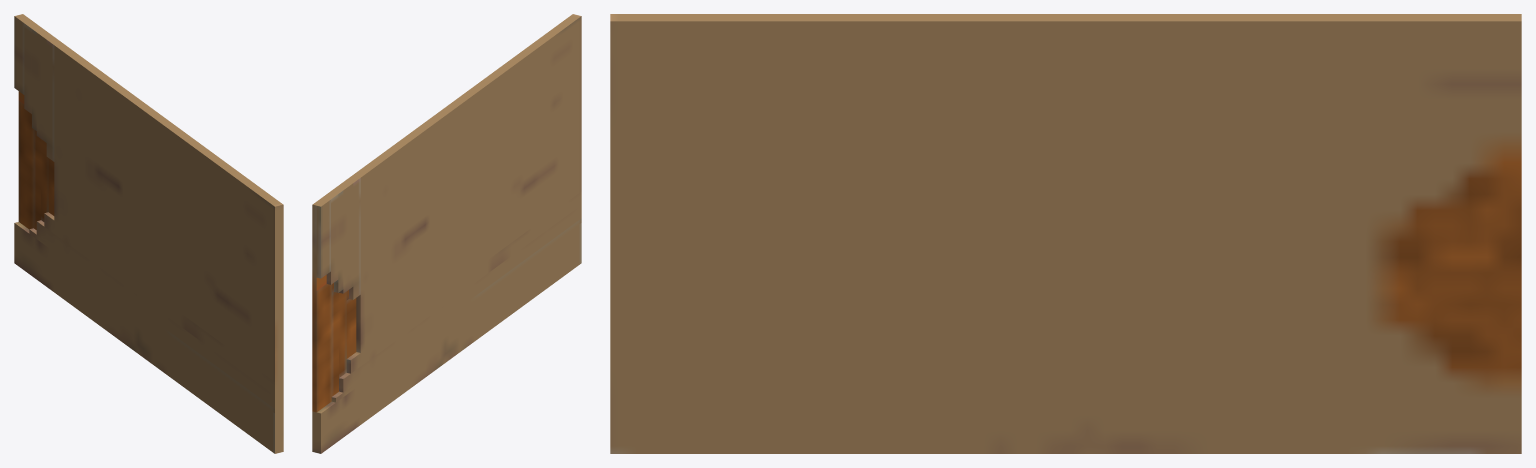
File: WallRightSideModeratelyDamaged_B_00.fbx
The picture shows the model from 3 angles, left to right: view 1: azimuth 30°, elevation 25°; view 2: azimuth 150°, elevation 25°; view 3: azimuth 270°, elevation 25°; orthographic projection. The views are drawn at different scales.
Visible parts, largest first — view 1: WallRightSideModeratelyDamaged_B_00; view 2: WallRightSideModeratelyDamaged_B_00; view 3: WallRightSideModeratelyDamaged_B_00.
Boxes of the visible parts, <box> form: WallRightSideModeratelyDamaged_B_00: <box>14,14,283,453</box>; WallRightSideModeratelyDamaged_B_00: <box>312,14,581,453</box>; WallRightSideModeratelyDamaged_B_00: <box>610,14,1521,453</box>.
Size of the model in its own units: 10 by 525 by 275.
Materials: 1 (1 with a texture image).
